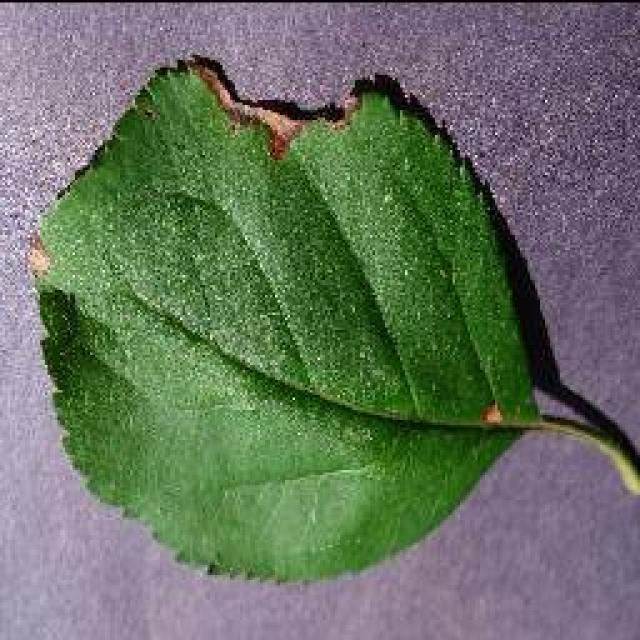Black_rot: (28, 53, 638, 585)
